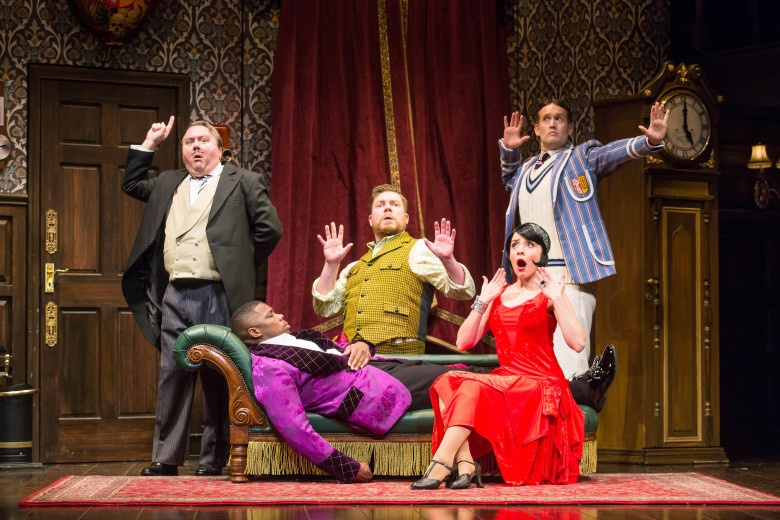bad: (237, 199, 280, 242), (369, 194, 405, 230), (177, 130, 213, 166), (533, 110, 569, 146)
